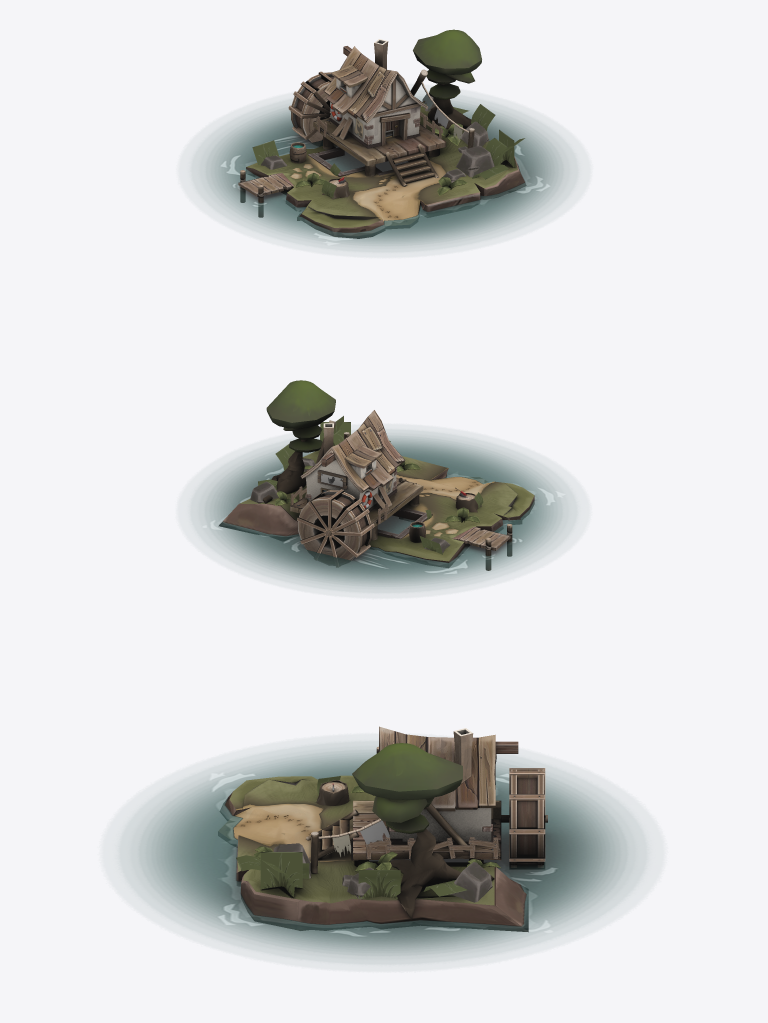
The picture shows the model from 3 angles, top to bottom: view 1: azimuth 30°, elevation 25°; view 2: azimuth 150°, elevation 25°; view 3: azimuth 270°, elevation 25°; orthographic projection. The views are drawn at different scales.
Visible parts, largest first — view 1: m_Water, m_Ground, m_House, m_Tree, m_Grass, m_Rock, m_Pier, m_WoodenBeams, m_Plants_Material #155_0, m_Clothline, m_StoneLedge; view 2: m_Water, m_House, m_Ground, m_Tree, m_Grass, m_Pier, m_Plants_Material #155_0, m_Rock, m_StoneLedge; view 3: m_Water, m_Ground, m_House, m_Tree, m_Grass, m_Rock, m_Clothline, m_Fence, m_Plants_Material #155_0, m_Log.
Boxes of the visible parts, x1,y1,x2,y2 form: m_Water: (190, 89, 578, 252); m_Ground: (246, 107, 526, 238); m_House: (288, 39, 446, 186); m_Tree: (413, 29, 481, 136); m_Grass: (252, 104, 524, 198); m_Rock: (261, 95, 494, 182); m_Pier: (238, 170, 293, 217); m_WoodenBeams: (332, 77, 420, 145); m_Plants_Material #155_0: (295, 102, 467, 195); m_Clothline: (410, 69, 474, 148); m_StoneLedge: (308, 147, 423, 176); m_Water: (189, 429, 577, 592); m_House: (290, 410, 423, 567); m_Ground: (219, 450, 534, 567); m_Tree: (263, 380, 335, 503); m_Grass: (258, 416, 483, 554); m_Pier: (452, 524, 512, 570); m_Plants_Material #155_0: (275, 457, 480, 522); m_Rock: (250, 458, 449, 552); m_StoneLedge: (377, 507, 432, 538); m_Water: (117, 741, 648, 964); m_Ground: (218, 775, 528, 931); m_House: (306, 726, 547, 868); m_Tree: (352, 743, 494, 919); m_Grass: (236, 776, 466, 898); m_Rock: (273, 843, 492, 902); m_Clothline: (310, 803, 469, 873); m_Fence: (365, 837, 498, 859); m_Plants_Material #155_0: (254, 785, 500, 871); m_Log: (316, 780, 349, 805).
Bounding box in the file's own units: 11.22 × 2.98 × 11.22.
23 materials, 23 textured.
